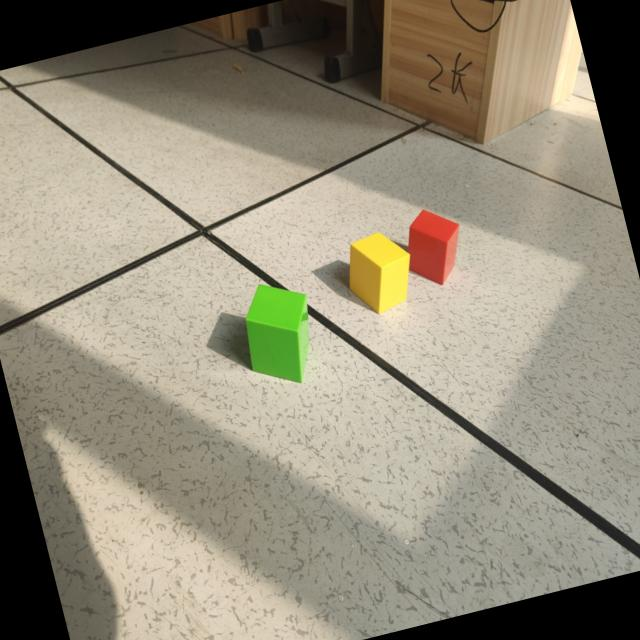green: (237, 285, 308, 384)
red: (409, 209, 462, 284)
yellow: (345, 233, 412, 316)
